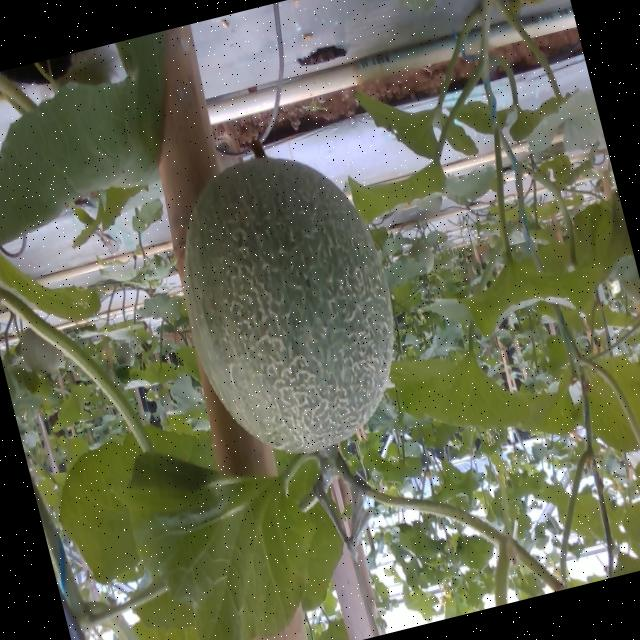melon: (181, 156, 392, 452)
